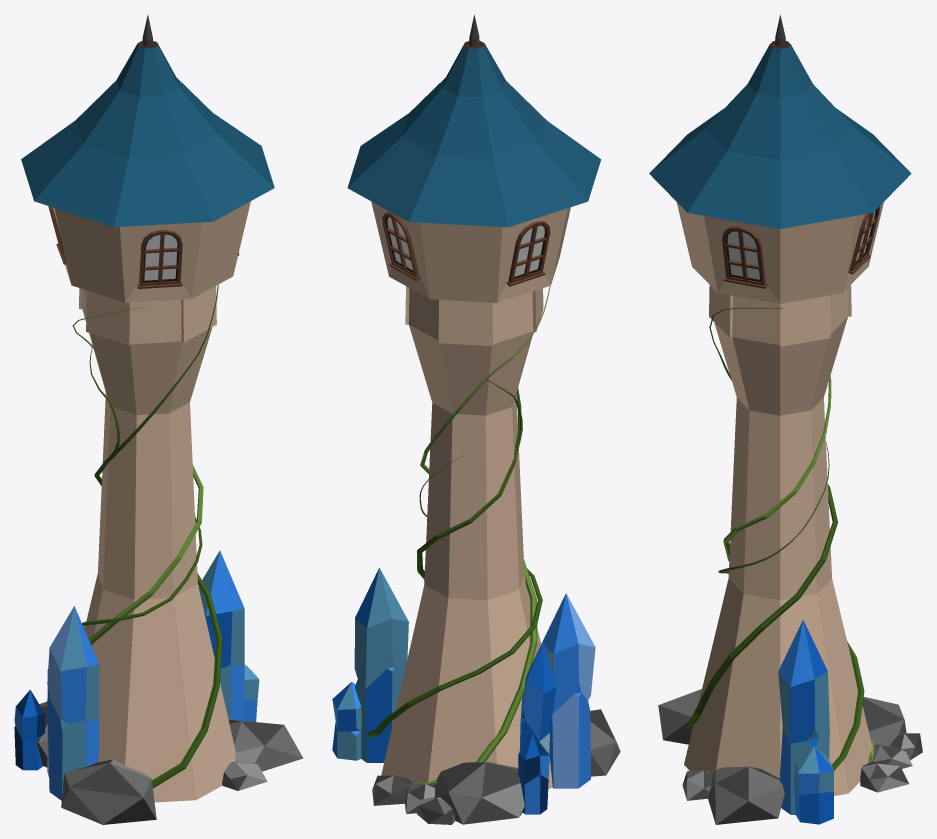
Rendered from MageTower_1.fbx.
3 views of the same model, side by side, from view 1: azimuth 30°, elevation 25°; view 2: azimuth 150°, elevation 25°; view 3: azimuth 270°, elevation 25° (orthographic).
Parts seen in each view (by area): view 1: wieża; view 2: wieża; view 3: wieża.
Part boxes in pixels (x1,y1,x2,y2): wieża: (14, 14, 303, 824); wieża: (332, 15, 620, 824); wieża: (649, 14, 922, 824).
Size of the model in its own units: 498 by 1516 by 498.
